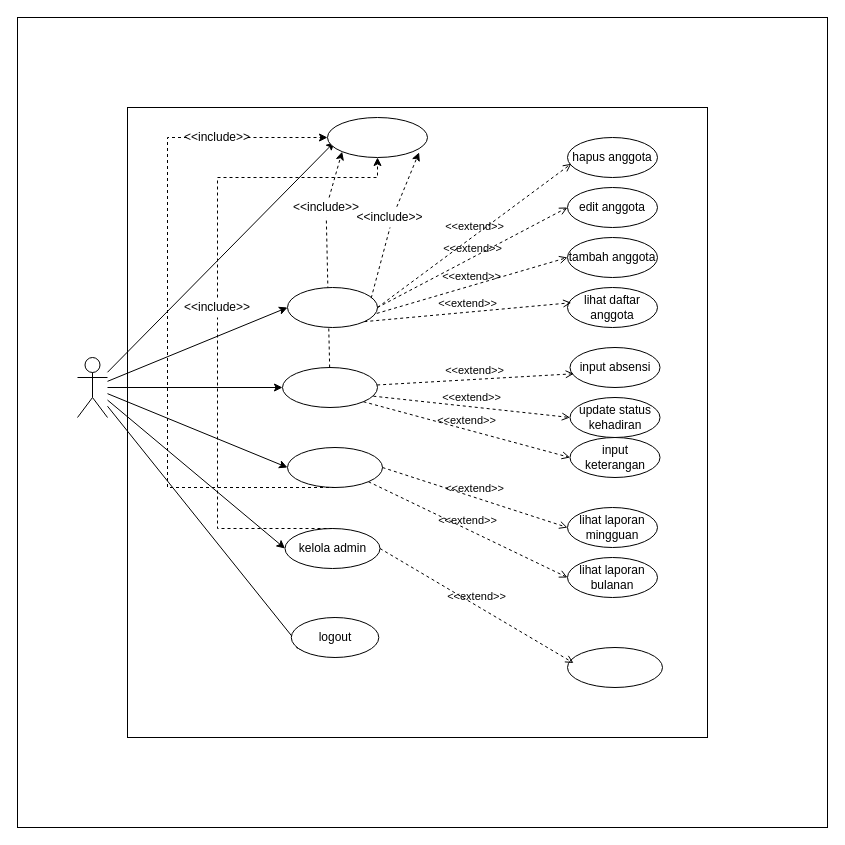
The diagram is 845 pixels wide and 845 high, and some of its shapes have lost their labels. The centre of each missing label's shape, as x and y in pixels:
absensi: pixel 330 387
admin: pixel 92 387
kelola anggota: pixel 332 307
laporan: pixel 334 467
login: pixel 377 137
tambah admin: pixel 614 667
